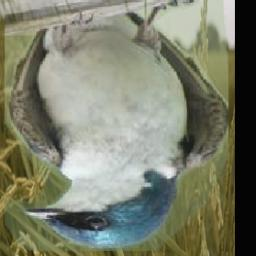Swallow: (5, 0, 228, 251)
